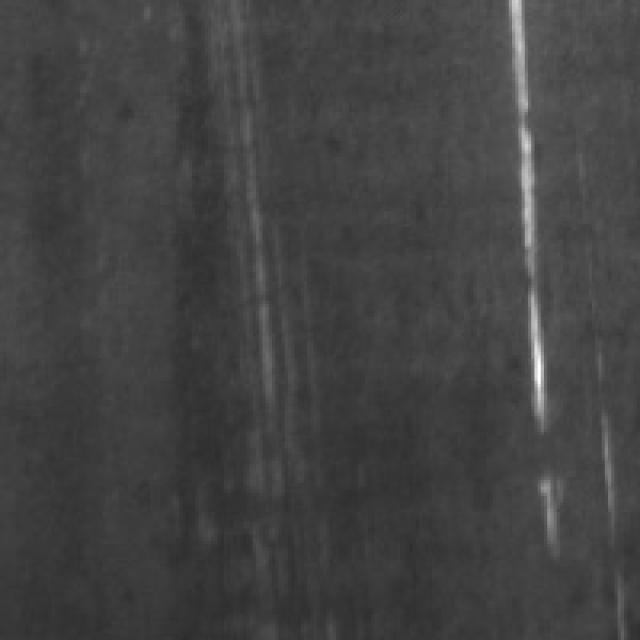scratches: (512, 0, 570, 541), (230, 93, 294, 410)
